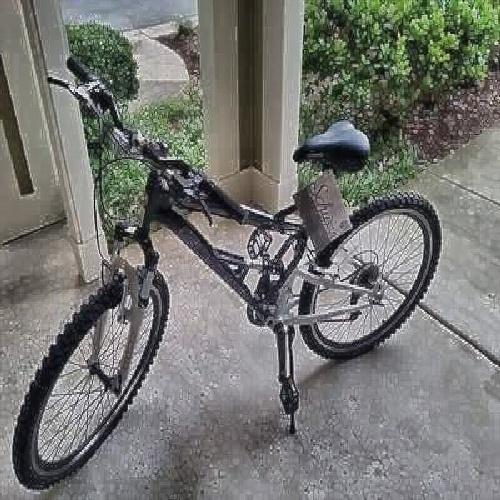bicycle: (40, 66, 436, 455)
